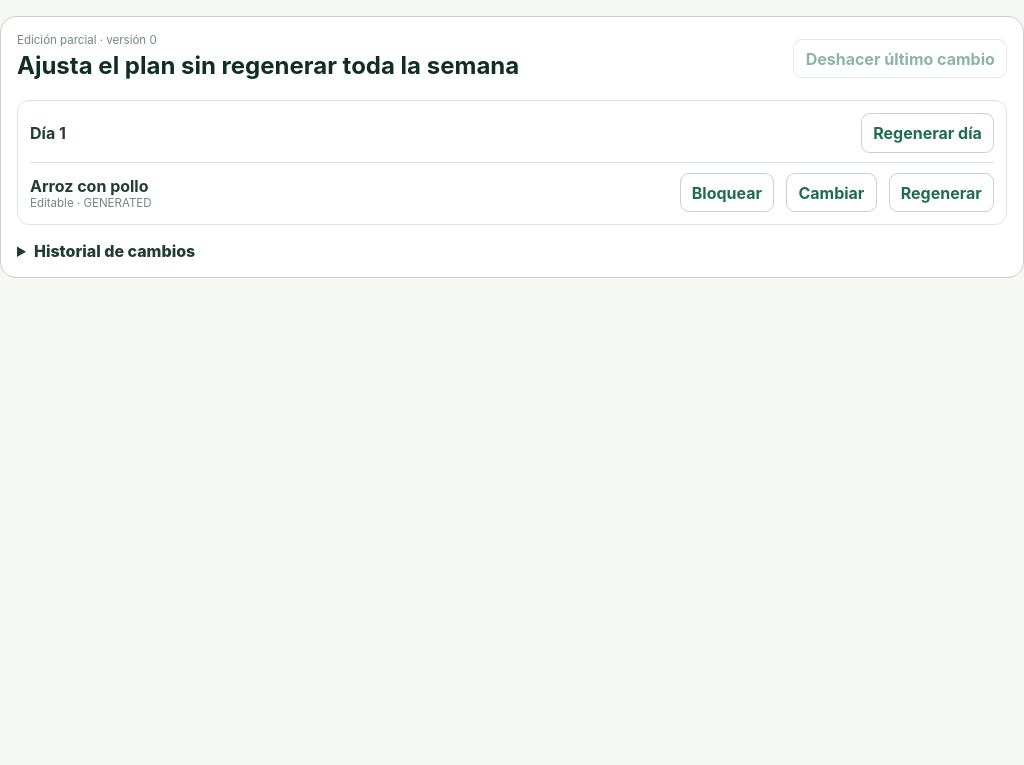
it: MealPlanEditingPanel › loads ranked alternatives and requires an before/after preview
Click the button "Cambiar" at (831, 193), box [786,173,876,212]
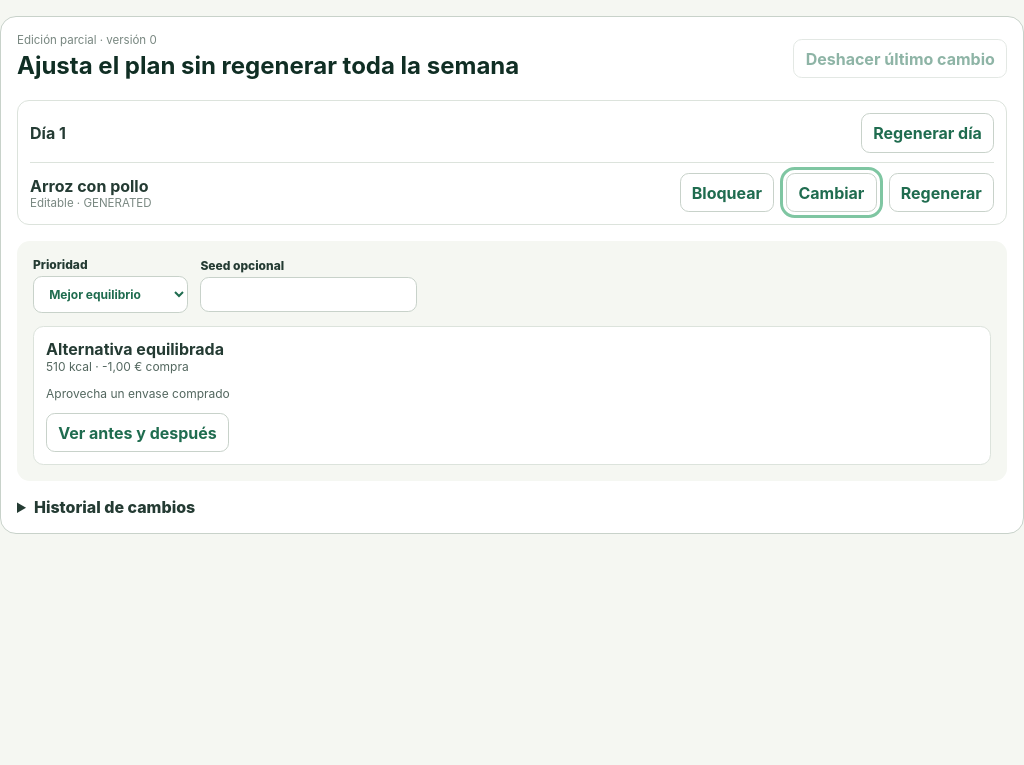
Result: the text "Alternativa equilibrada" is shown at [46,339,224,359]
Click the button "Ver antes y después" at (138, 433), box [46,413,229,452]
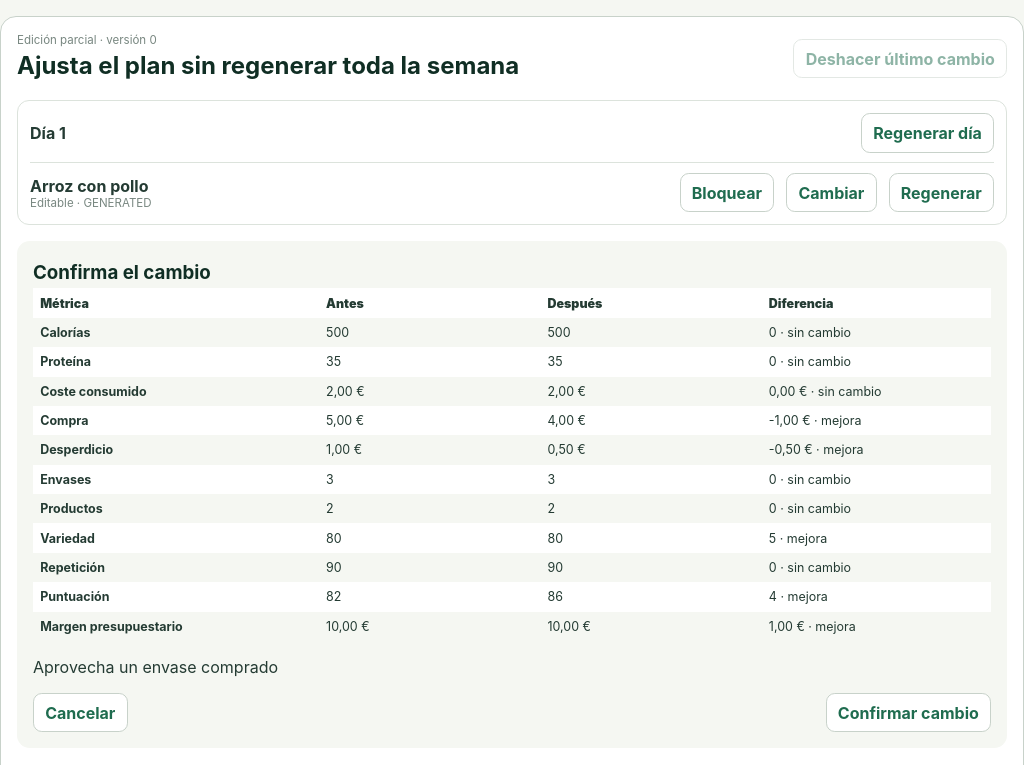
Result: the text "Antes" is shown at [326,296,364,311]
Result: the text "Después" is shown at [547,296,602,311]
Result: the dialog "Confirma el cambio" is shown
